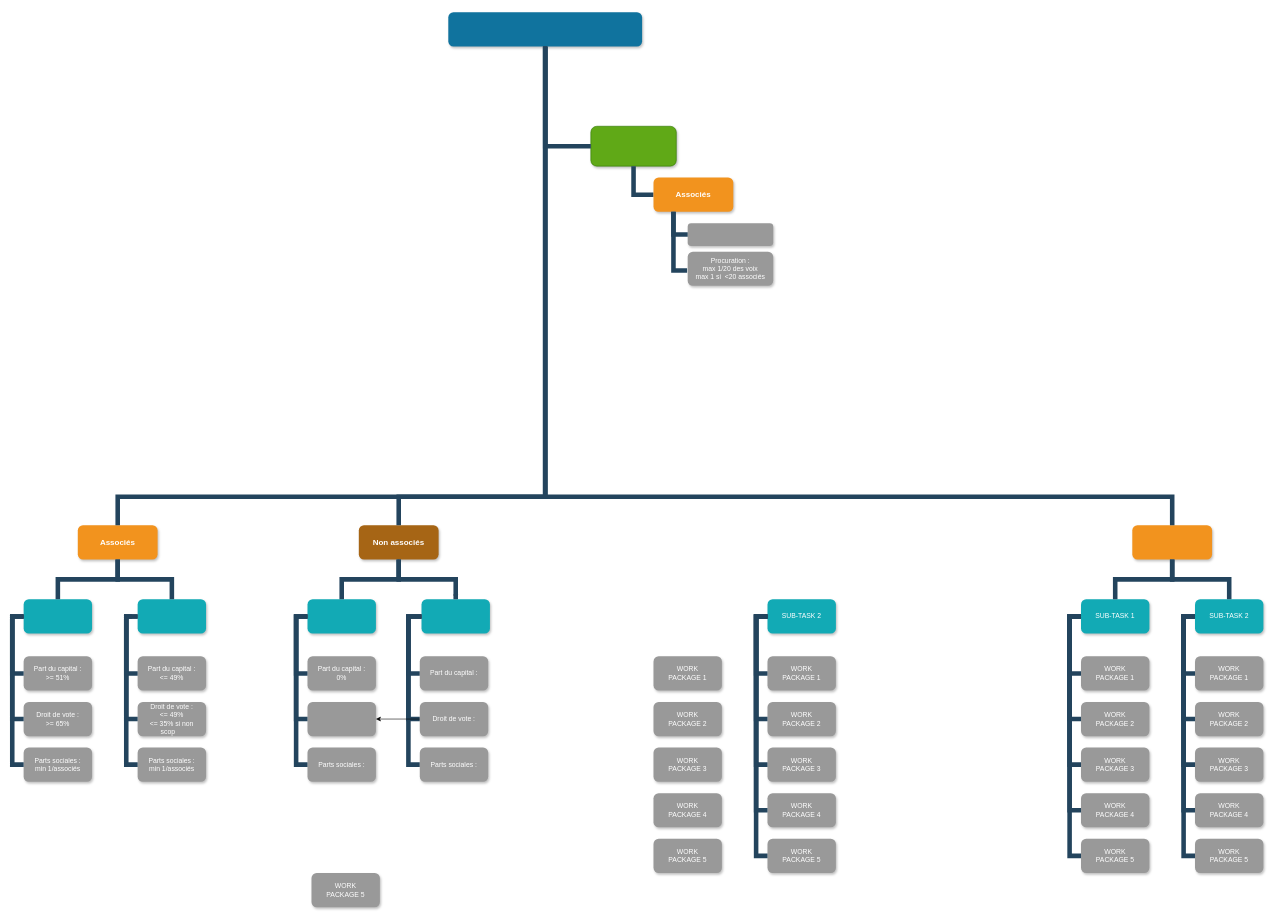
This 1276x921 diagram has some shape labels left out. Each missing label, with the centre of its shape:
"1 associé = 1 voix" belongs at pixel 730 235.
"Assemblée générale" belongs at pixel 634 146.
"Droit de vote : 0" belongs at pixel 342 719.
"Employés" belongs at pixel 342 617.
"Employés : >= 2" belongs at pixel 58 617.
"ft_scop hypothèse : SAS" belongs at pixel 545 30.
"Non employés : - personnes physiques - personne morale" belongs at pixel 172 617.
"Personnes physiques ou morales" belongs at pixel 456 617.
"SUB-PROJECT 6" belongs at pixel 1172 543.
